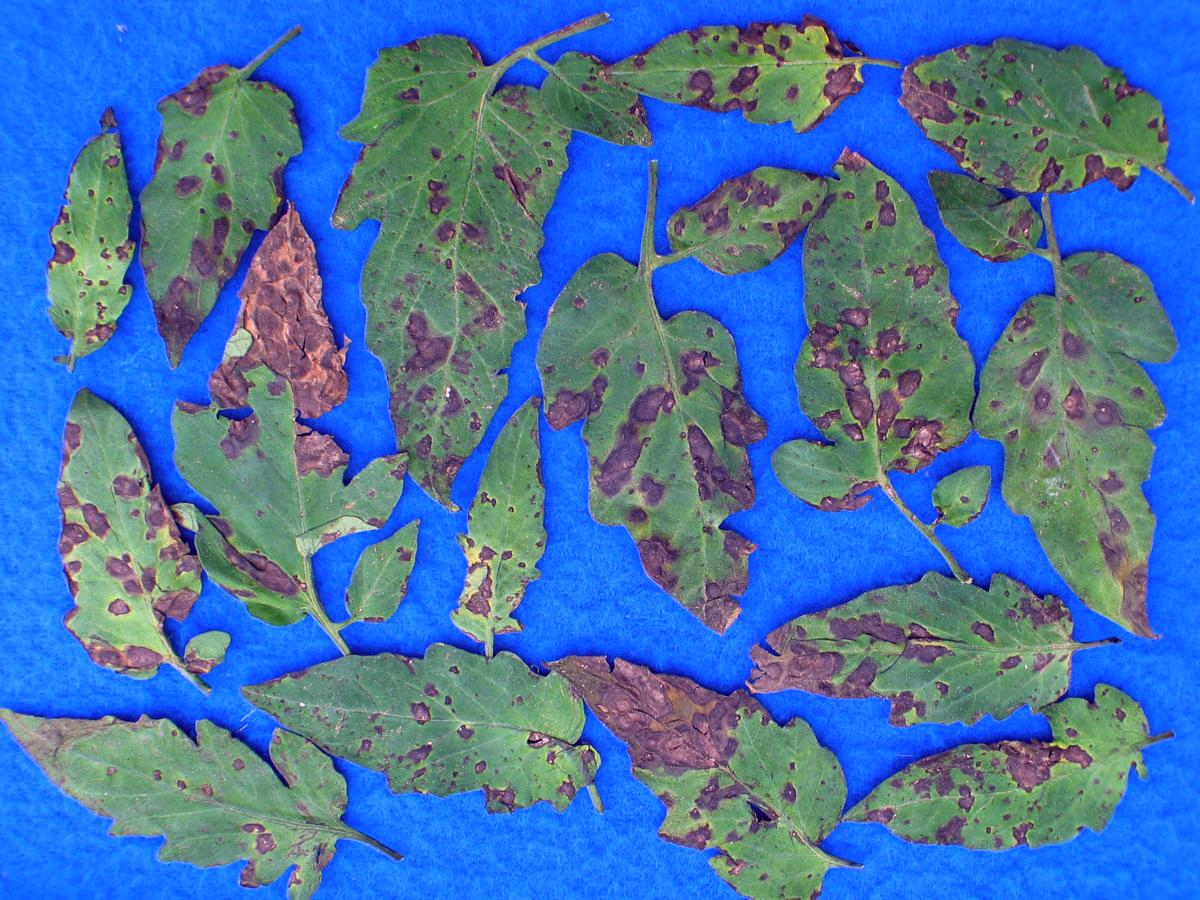Tomato Early blight leaf: (343, 32, 588, 543), (543, 247, 763, 629), (985, 242, 1179, 646), (539, 652, 849, 892), (773, 135, 966, 503), (6, 699, 361, 882), (136, 42, 303, 366), (733, 570, 1076, 725), (258, 649, 609, 792), (848, 695, 1156, 853), (898, 43, 1173, 213), (59, 382, 201, 705), (598, 7, 898, 127), (41, 69, 152, 370), (443, 395, 549, 652), (325, 505, 431, 640), (935, 173, 1041, 269)
